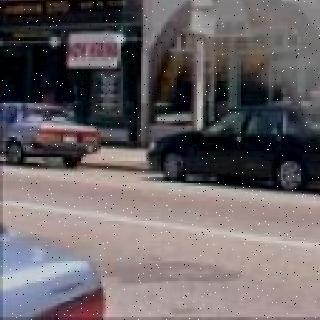smoke: (187, 0, 320, 149)
